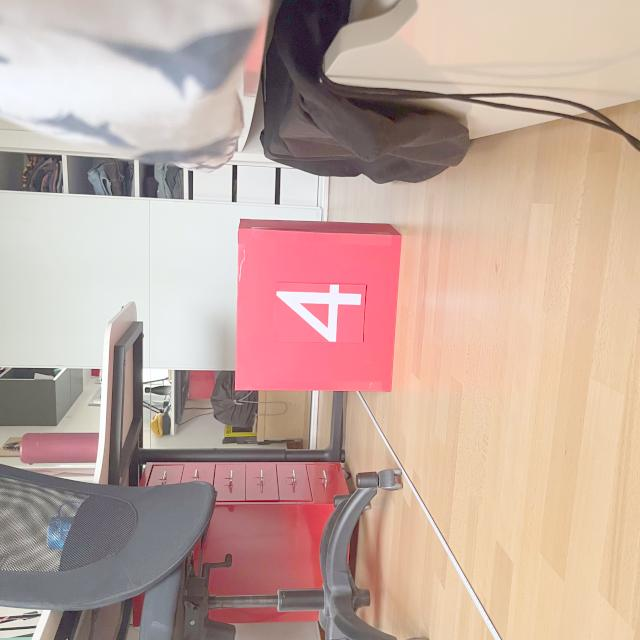box: (232, 214, 404, 395)
